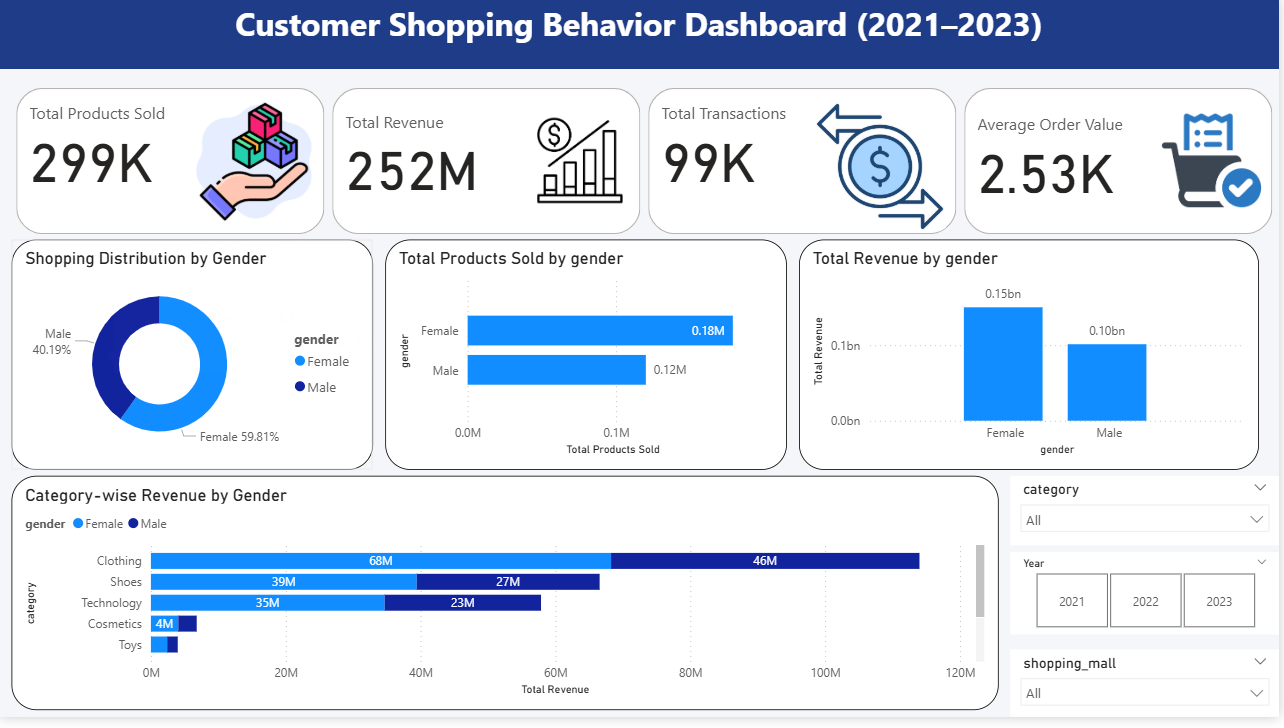

This screenshot's page, from the dashboard's own definition file:
{"tool":"powerbi","page":{"name":"GENDER ANALYSIS","canvas":[1280,720],"ordinal":1},"visuals":[{"type":"textbox","box":[0,0,1280,72.4],"z":0},{"type":"cardVisual","fields":{"Data":["country_deatils_datasets.Total Products Sold","country_deatils_datasets.Total Revenue","country_deatils_datasets.Total Transactions","country_deatils_datasets.Average Order Value"]},"box":[12.1,85.7,1268,156.8],"z":1000},{"type":"donutChart","title":"Shopping Distribution by Gender","fields":{"Category":["country_deatils_datasets.gender"],"Y":["country_deatils_datasets.Total Transactions"]},"box":[12.1,242.5,361.9,230.4],"z":2000},{"type":"barChart","fields":{"Category":["country_deatils_datasets.gender"],"Y":["country_deatils_datasets.Total Products Sold"]},"box":[386.1,242.5,401.7,230.4],"z":3000},{"type":"columnChart","fields":{"Category":["country_deatils_datasets.gender"],"Y":["country_deatils_datasets.Total Revenue"]},"box":[799.9,242.5,459.7,230.4],"z":4000},{"type":"barChart","title":"Category-wise Revenue by Gender","fields":{"Category":["country_deatils_datasets.category"],"Series":["country_deatils_datasets.gender"],"Y":["country_deatils_datasets.Total Revenue"]},"box":[12.1,479,986.9,234],"z":5000},{"type":"slicer","fields":{"Values":["country_deatils_datasets.category"]},"box":[1011,479,269,70],"z":6000},{"type":"slicer","fields":{"Values":["country_deatils_datasets.Year"]},"box":[1011,555,269,82],"z":7000},{"type":"slicer","fields":{"Values":["country_deatils_datasets.shopping_mall"]},"box":[1011,652.7,269,67.6],"z":8000}]}

Visuals, with their boxes in screenshot pixels (x1, y1, x2, y2), scaled from the page's 1280x720 canvas onto the 1284x728 screenshot:
textbox: select_region(0, 0, 1283, 73)
cardVisual - country_deatils_datasets.Total Products Sold x country_deatils_datasets.Total Revenue: select_region(12, 87, 1283, 245)
"Shopping Distribution by Gender" donutChart: select_region(12, 245, 375, 478)
barChart - country_deatils_datasets.gender x country_deatils_datasets.Total Products Sold: select_region(387, 245, 790, 478)
columnChart - country_deatils_datasets.gender x country_deatils_datasets.Total Revenue: select_region(802, 245, 1264, 478)
"Category-wise Revenue by Gender" barChart: select_region(12, 484, 1002, 721)
slicer - country_deatils_datasets.category: select_region(1014, 484, 1283, 555)
slicer - country_deatils_datasets.Year: select_region(1014, 561, 1283, 644)
slicer - country_deatils_datasets.shopping_mall: select_region(1014, 660, 1283, 727)
